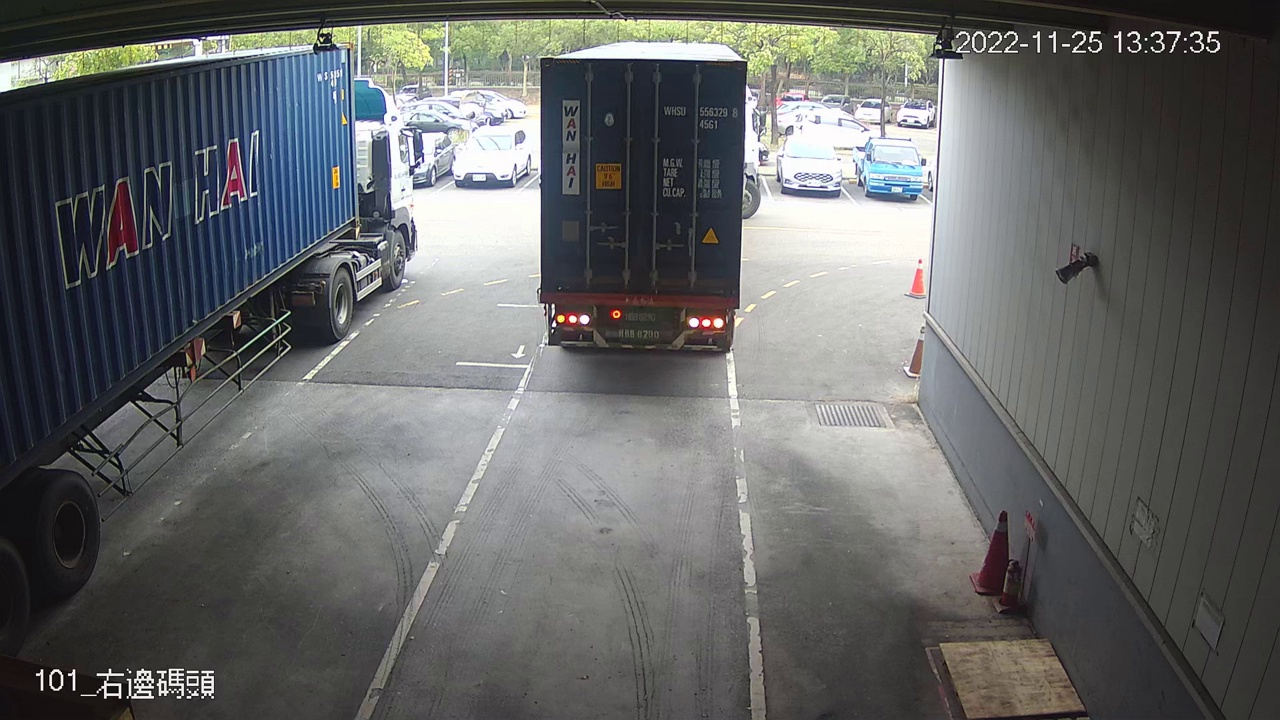container: (658, 101, 741, 135)
